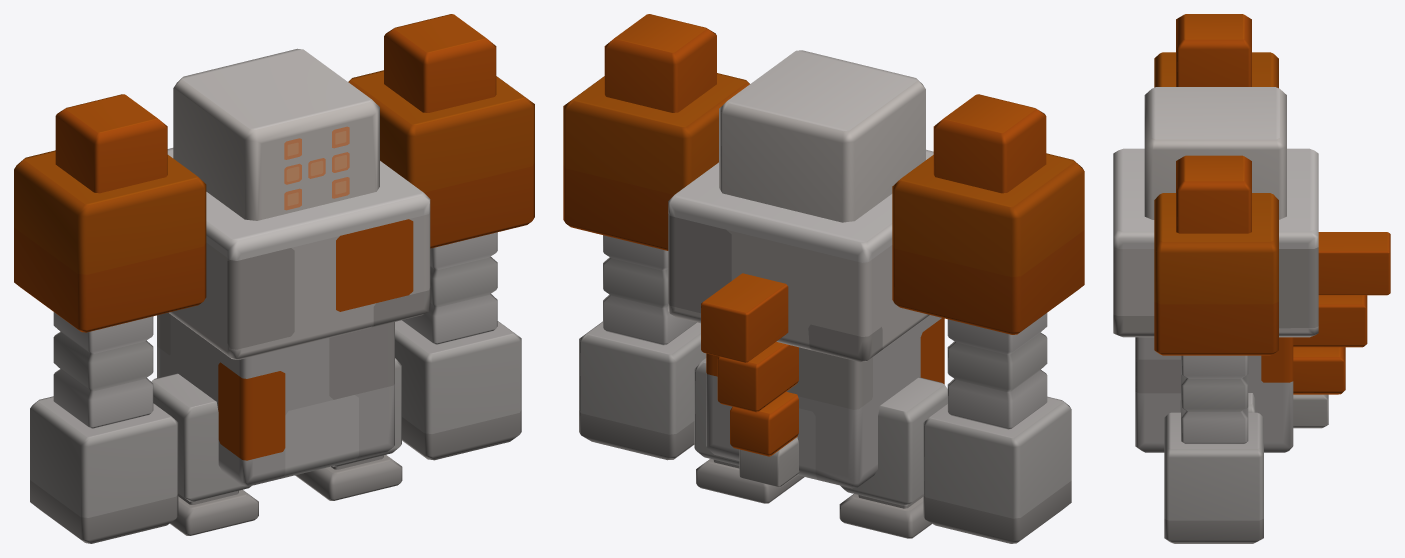
3 views of the same model, side by side, from view 1: azimuth 30°, elevation 25°; view 2: azimuth 150°, elevation 25°; view 3: azimuth 270°, elevation 25° (orthographic). The views are drawn at different scales.
Parts seen in each view (by area): view 1: model; view 2: model; view 3: model.
Part boxes in pixels (bbox=[...]): model: bbox=[14, 14, 534, 543]; model: bbox=[563, 14, 1084, 543]; model: bbox=[1113, 14, 1390, 543].
Size of the model in its own units: 3.68 by 3.26 by 2.19.
